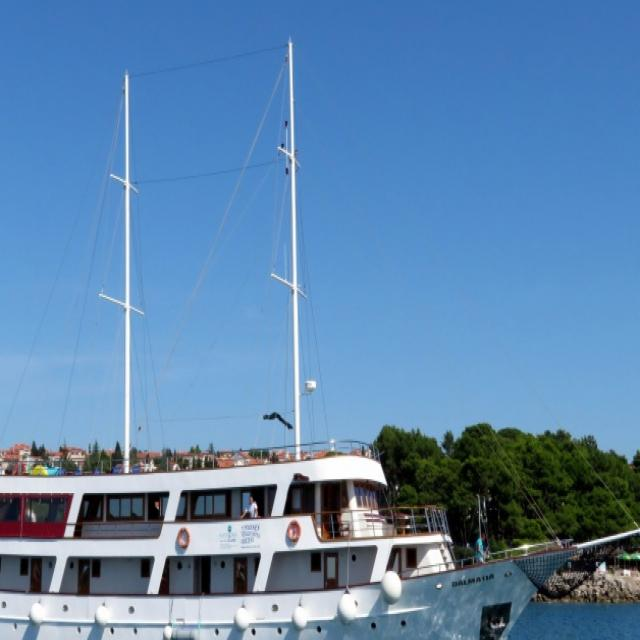cruises: (1, 379, 640, 640)
